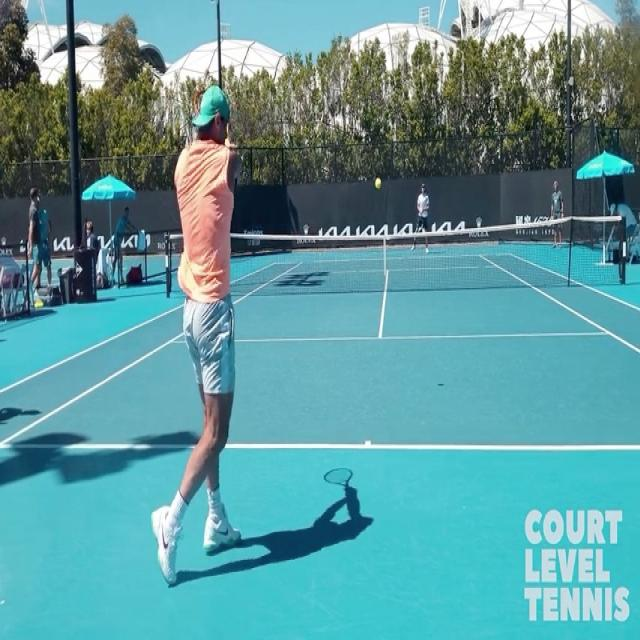backhand-stroke: (156, 82, 252, 608)
